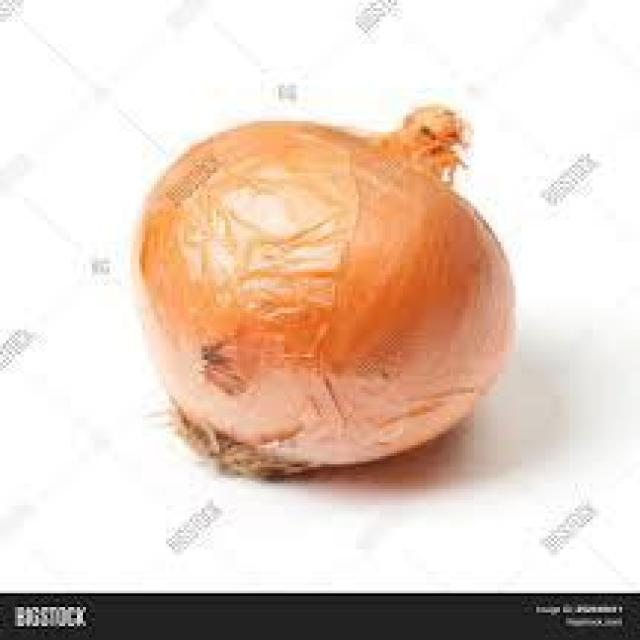Onion: (121, 110, 518, 481)
